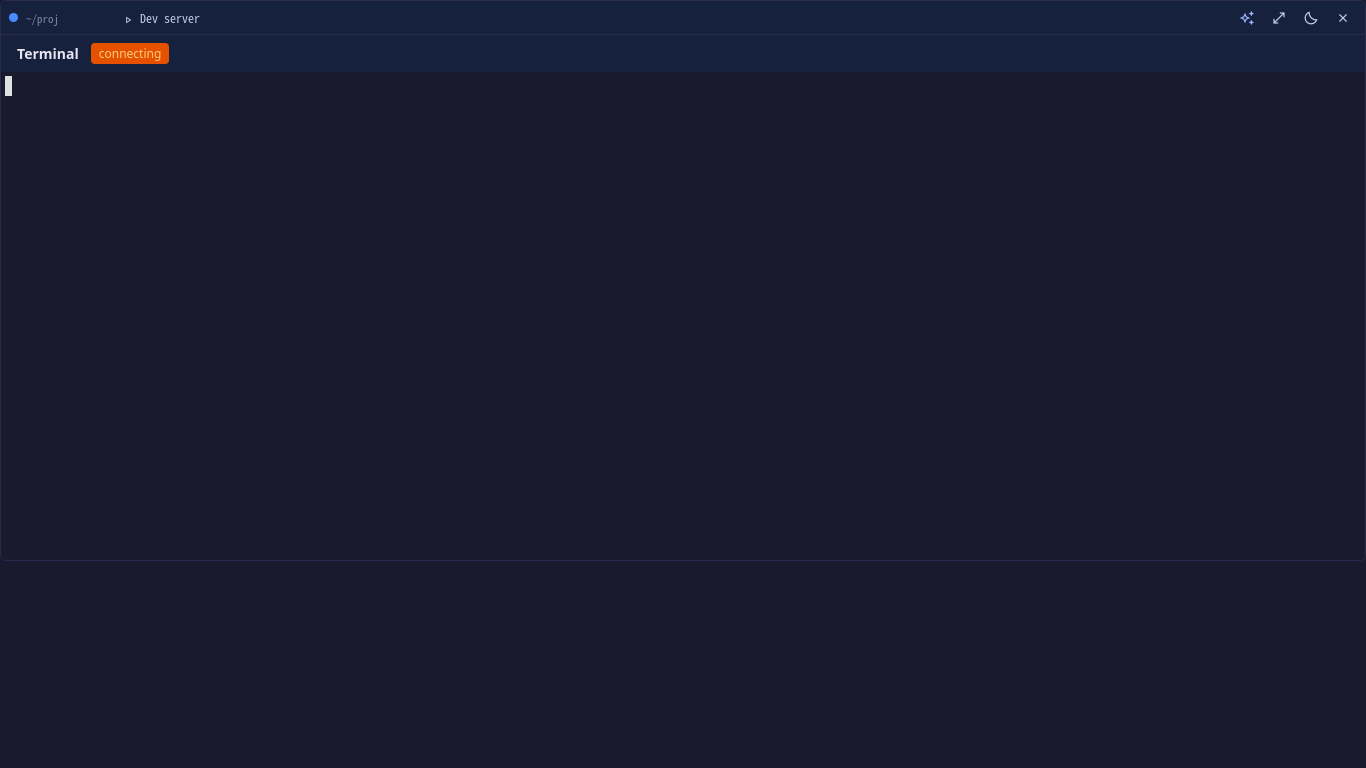
CommandCell summarize › shows the truncation note when the server truncated the log
Click the button named "Summarize command output" at (1247, 18), box [1233,4,1261,30]
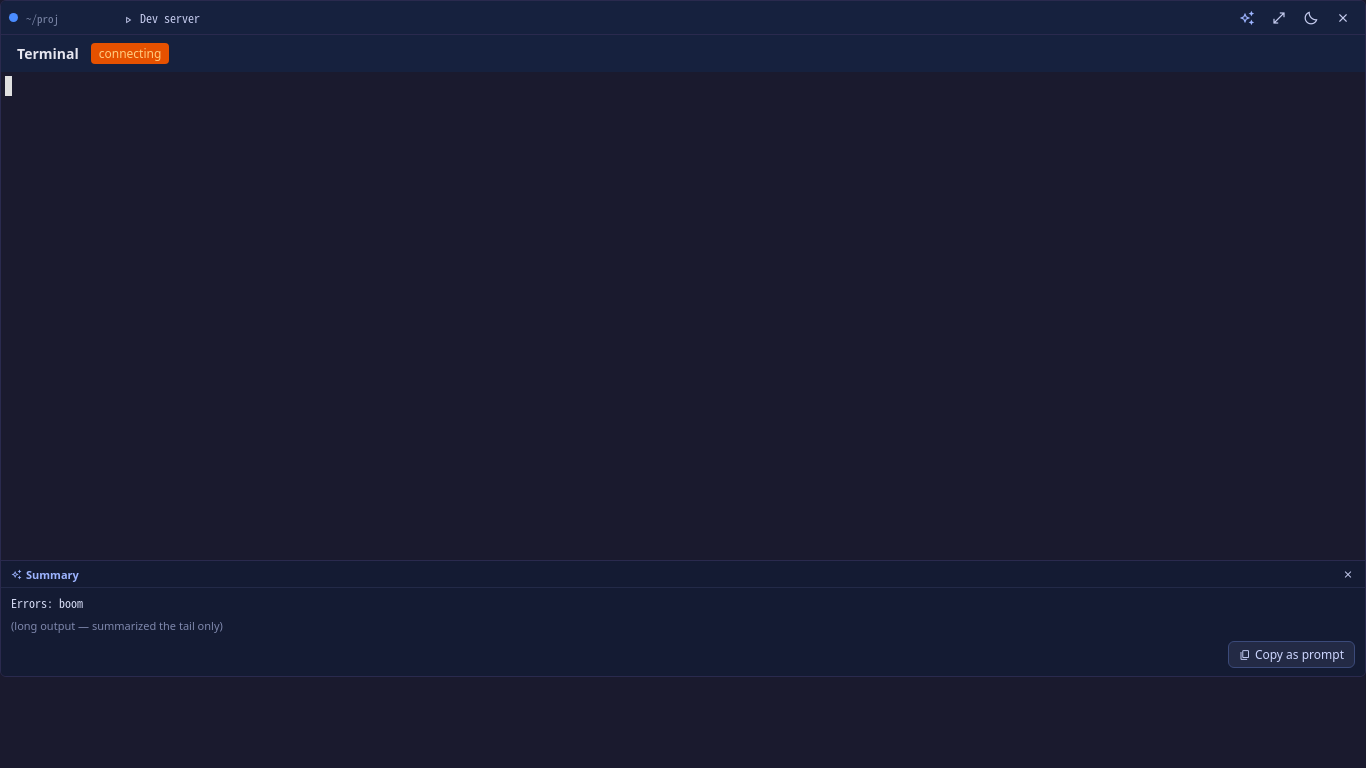
expect the text "(long output — summarized the tail only)" is shown: met, box [11,618,223,633]
